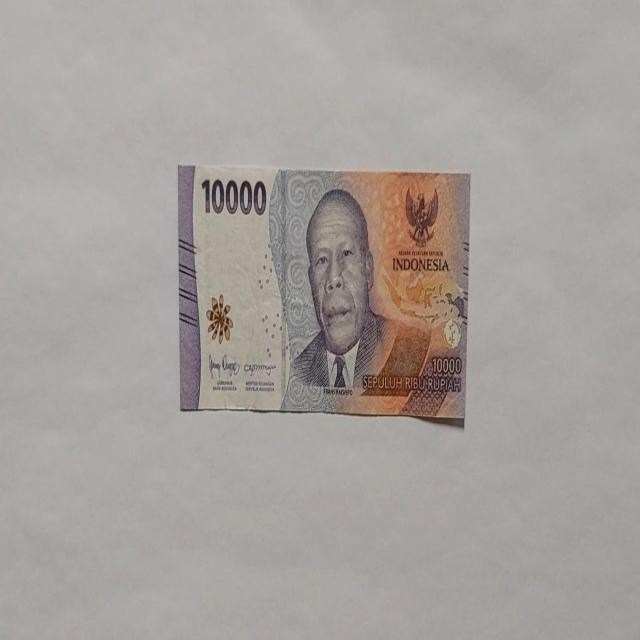Kertas: (178, 163, 470, 424)
